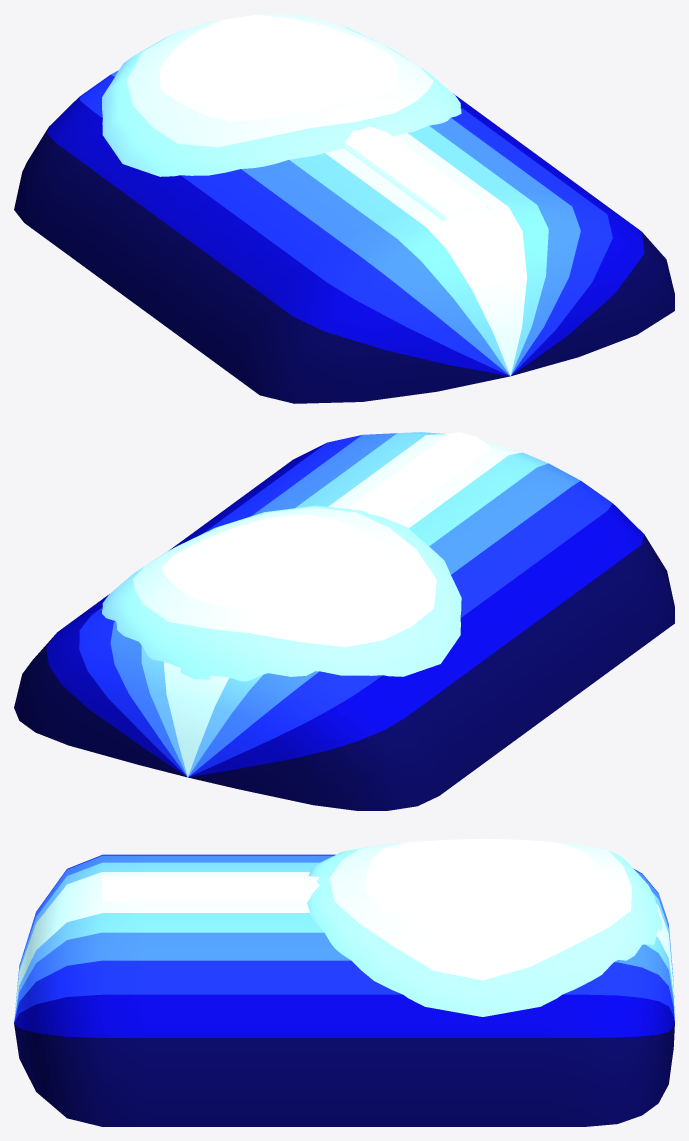
Rendered from shot_zica_101.glb.
3 renders of one model, top to bottom at view 1: azimuth 30°, elevation 25°; view 2: azimuth 150°, elevation 25°; view 3: azimuth 270°, elevation 25°, orthographic. The views are drawn at different scales.
Visible parts, largest first — view 1: shot_zica_101_rod, shot_zica_101_ball, shot_zica_101_core; view 2: shot_zica_101_rod, shot_zica_101_ball, shot_zica_101_core; view 3: shot_zica_101_rod, shot_zica_101_ball, shot_zica_101_core.
Boxes of the visible parts, <box> form: shot_zica_101_rod: <box>14,70,674,403</box>; shot_zica_101_ball: <box>102,14,461,176</box>; shot_zica_101_core: <box>344,126,490,221</box>; shot_zica_101_rod: <box>14,432,674,810</box>; shot_zica_101_ball: <box>102,505,461,681</box>; shot_zica_101_core: <box>345,432,490,521</box>; shot_zica_101_rod: <box>14,854,674,1126</box>; shot_zica_101_ball: <box>307,839,662,1016</box>; shot_zica_101_core: <box>102,876,319,902</box>.
Bounding box in the file's own units: 12 × 4.2 × 16.16.
